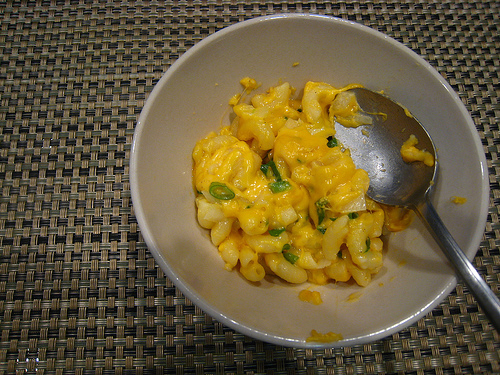macncheese: (192, 73, 390, 288)
